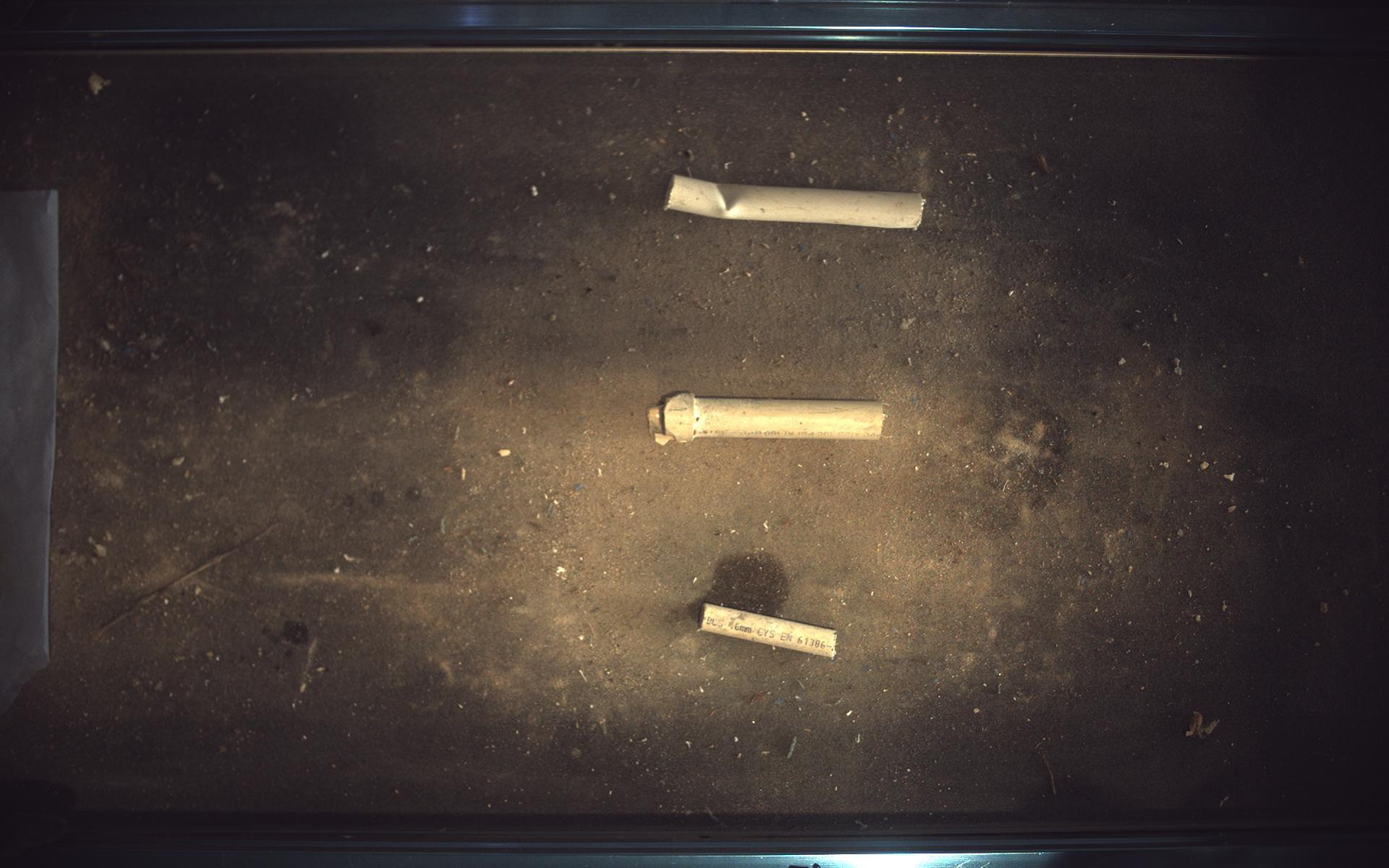pipes: (666, 174, 927, 229), (649, 393, 886, 445), (700, 604, 838, 660)
